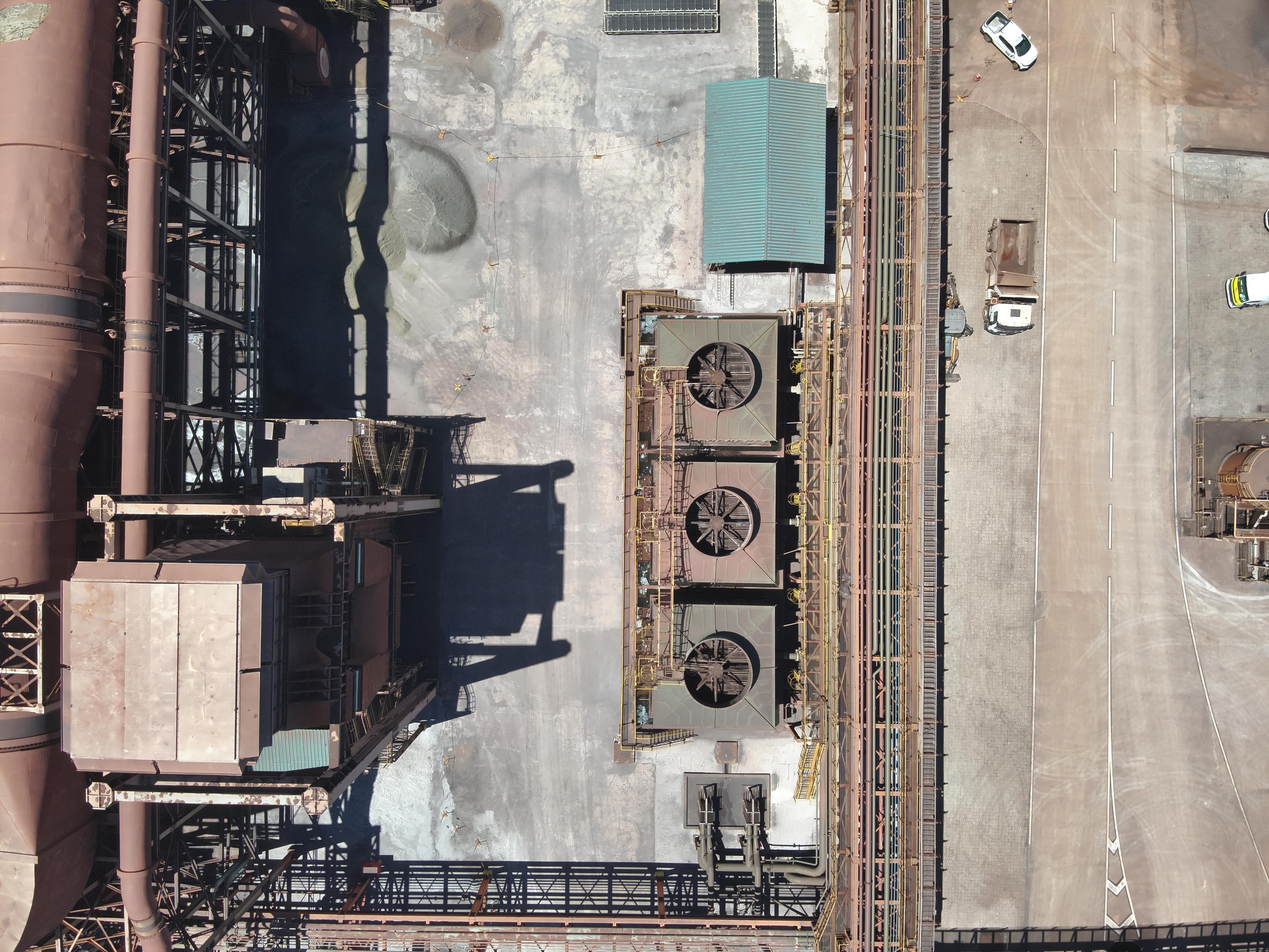Failures: (0, 3, 52, 43)
